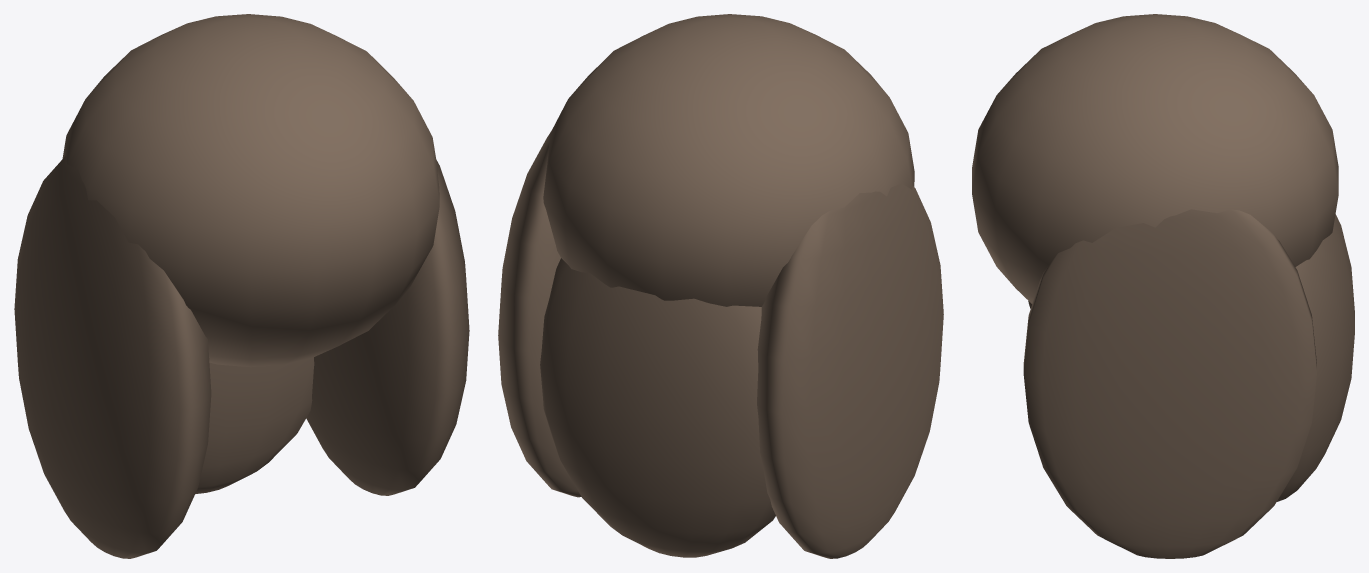
The model's file is hair-bob.glb.
3 views of the same model, side by side, from view 1: azimuth 30°, elevation 25°; view 2: azimuth 150°, elevation 25°; view 3: azimuth 270°, elevation 25° (orthographic). The views are drawn at different scales.
Parts seen in each view (by area): view 1: Hair; view 2: Hair; view 3: Hair.
Part boxes in pixels (x1=…): Hair: x1=14, y1=14, x2=469, y2=558; Hair: x1=498, y1=14, x2=943, y2=558; Hair: x1=972, y1=14, x2=1354, y2=558.
Size of the model in its own units: 0.28 by 0.345 by 0.257.
